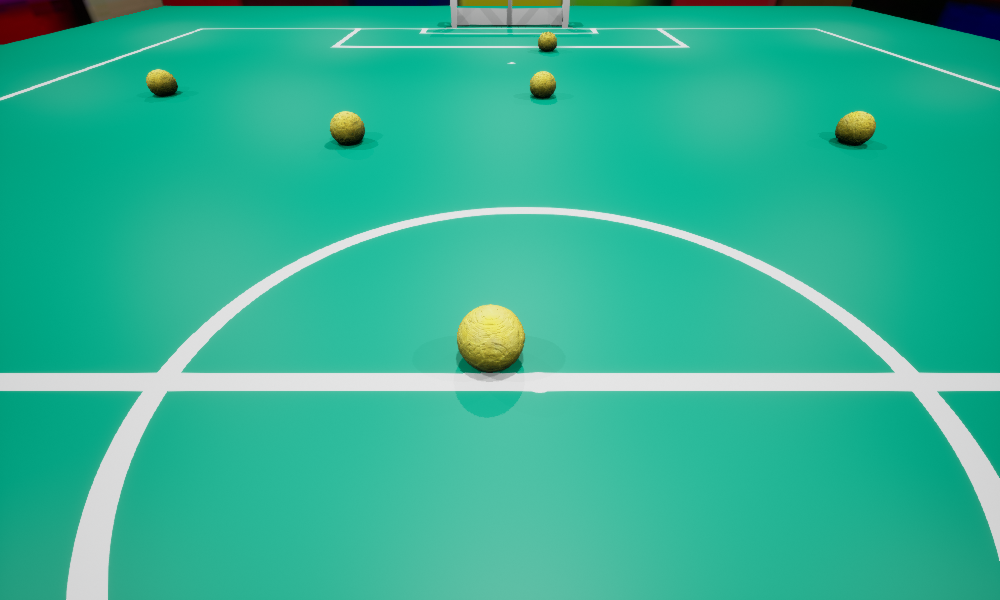b: (457, 304, 524, 372), (835, 111, 875, 144), (330, 111, 364, 144), (146, 69, 177, 95), (530, 71, 555, 97), (538, 31, 556, 51)
g: (450, 0, 569, 27)
